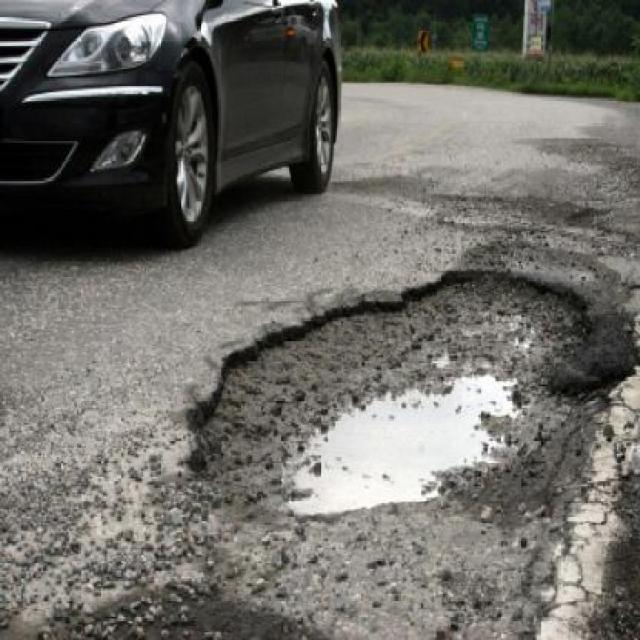Pothole: (187, 260, 596, 528)
